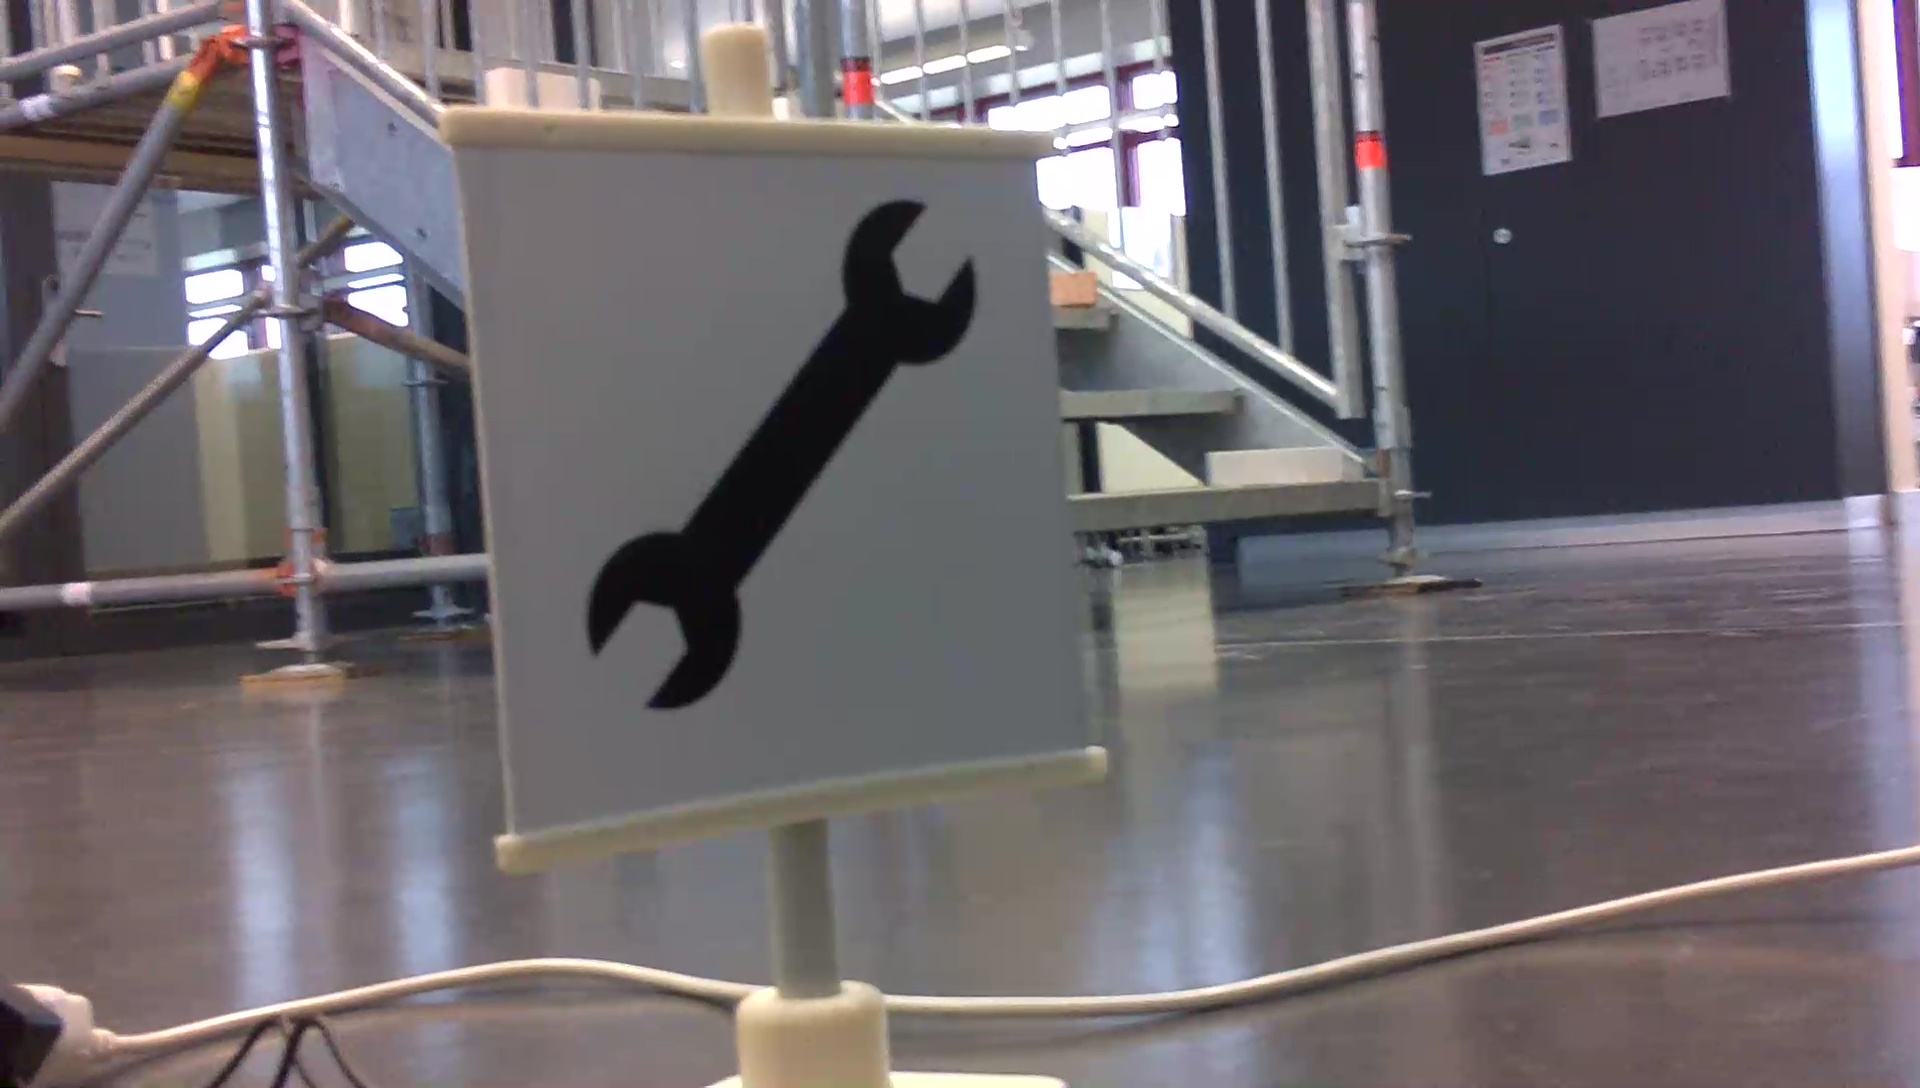brick: (1208, 444, 1342, 483), (1046, 268, 1092, 305)
edge: (1073, 483, 1375, 530), (1060, 382, 1241, 415)
wrench: (578, 190, 986, 719)
